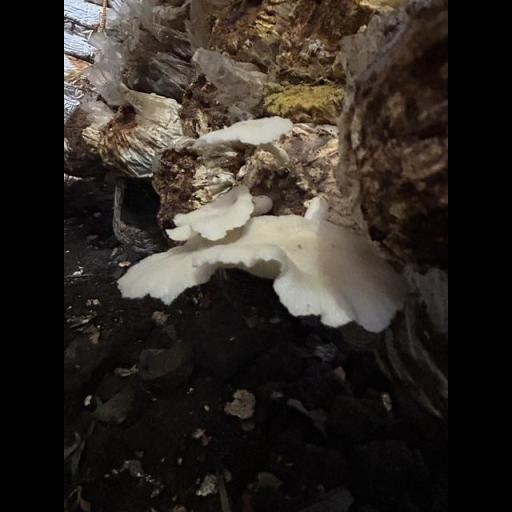White Oyster Mushroom: (116, 182, 411, 351)
